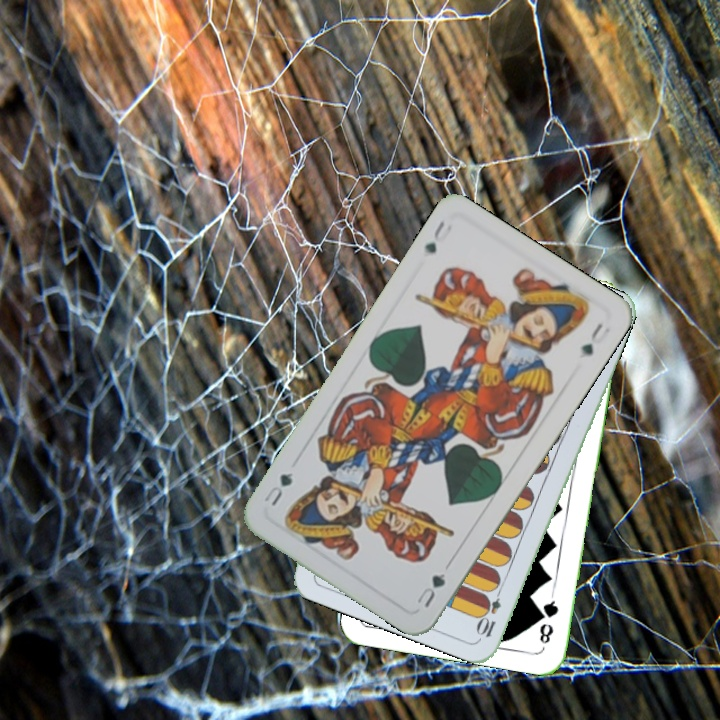E10: (475, 582, 505, 640)
G8: (535, 590, 562, 647)
GU: (412, 569, 448, 611), (420, 217, 455, 257)
